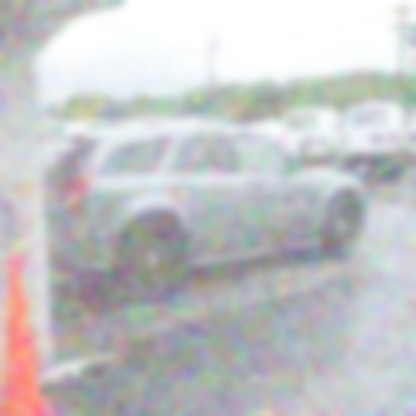Vehicle: (47, 118, 374, 304)
